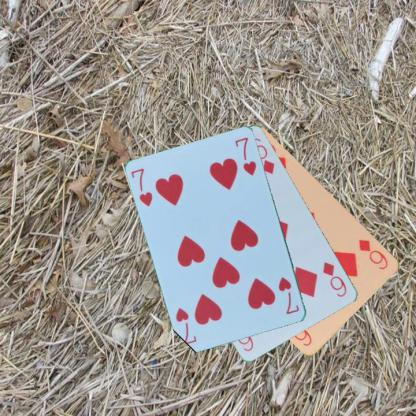6d: (356, 237, 390, 271), (320, 259, 348, 299)
7h: (128, 166, 154, 208), (276, 274, 301, 316)
